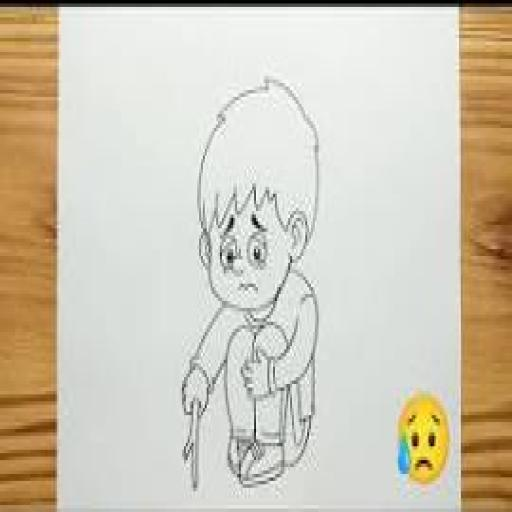person: (175, 68, 334, 506)
